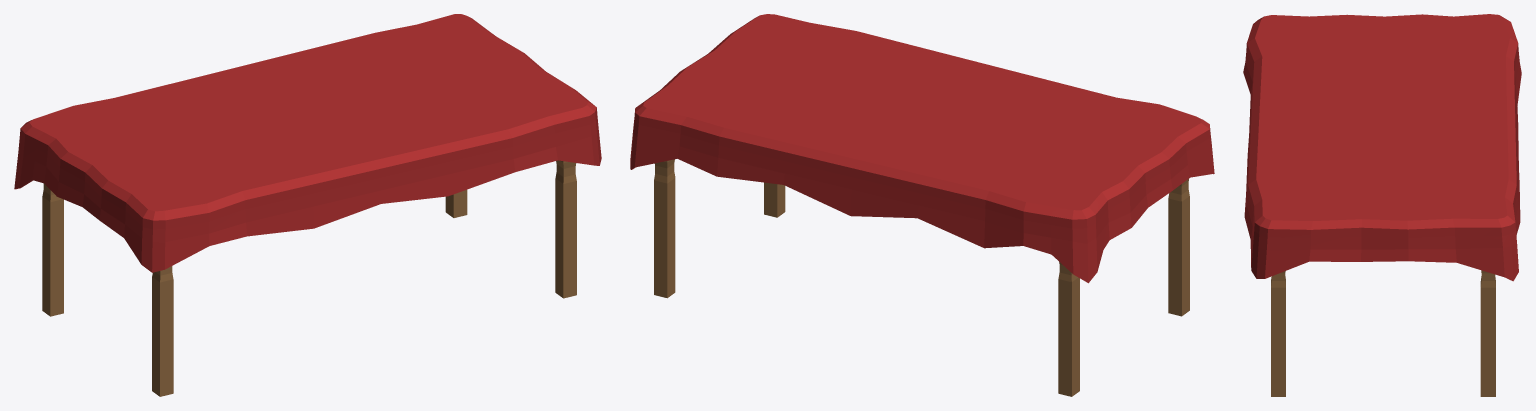
The model's file is R_Table_Big_Cloth.fbx.
3 renders of one model, left to right at view 1: azimuth 30°, elevation 25°; view 2: azimuth 150°, elevation 25°; view 3: azimuth 270°, elevation 25°, orthographic. The views are drawn at different scales.
Visible parts, largest first — view 1: R_Table_Big_Cloth; view 2: R_Table_Big_Cloth; view 3: R_Table_Big_Cloth.
Boxes of the visible parts, x1=… form: R_Table_Big_Cloth: x1=14, y1=14, x2=601, y2=396; R_Table_Big_Cloth: x1=630, y1=14, x2=1214, y2=396; R_Table_Big_Cloth: x1=1243, y1=14, x2=1521, y2=396.
Bounding box in the file's own units: 1743 × 946 × 683.
